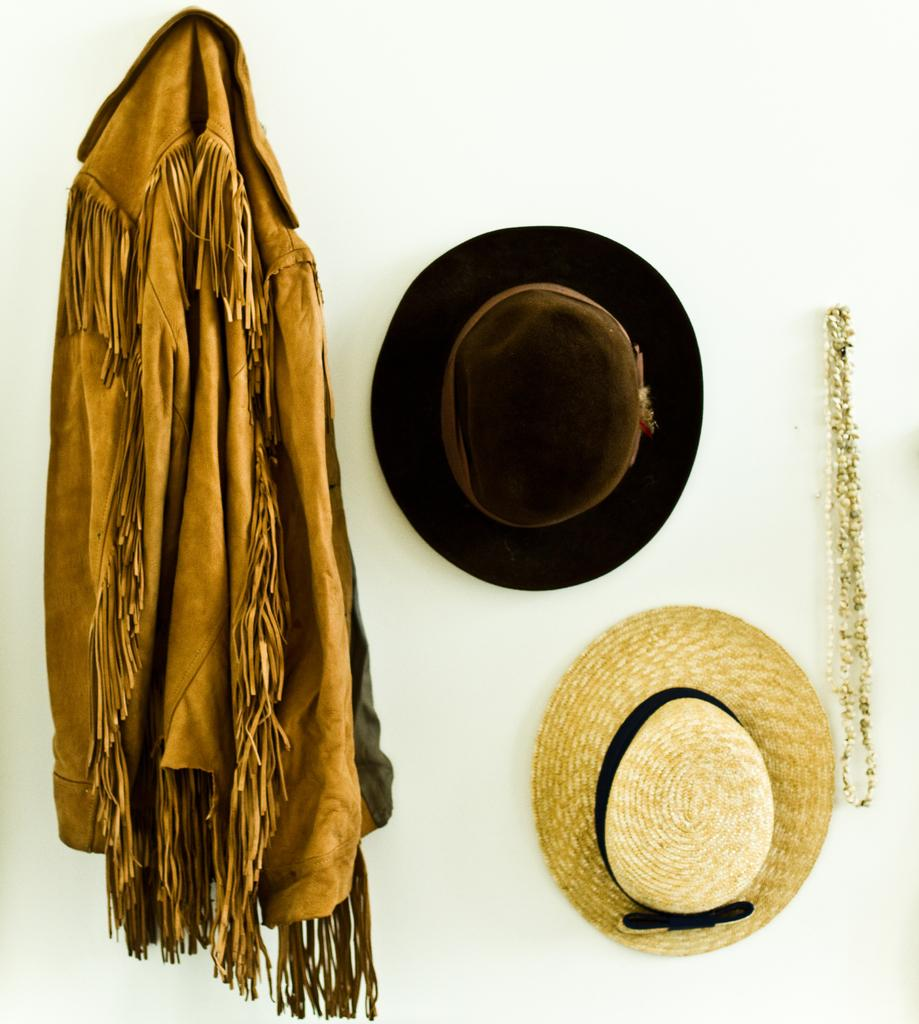Hat: (370, 219, 704, 595), (528, 599, 840, 959)
